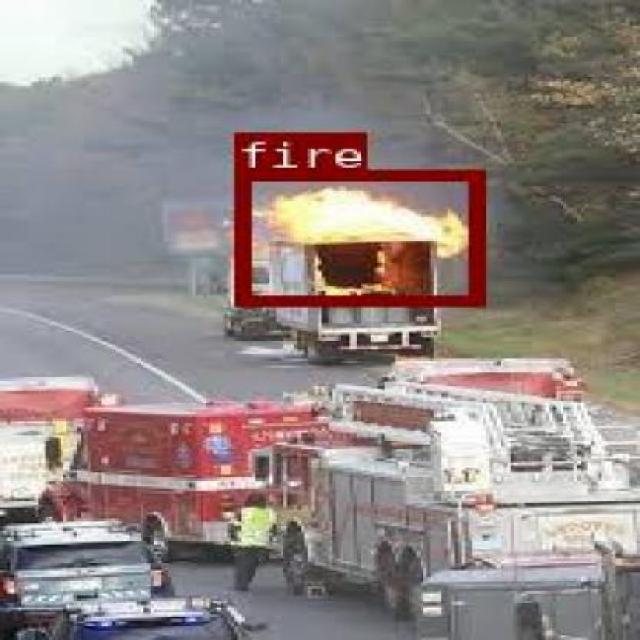Fire: (248, 134, 356, 236)
